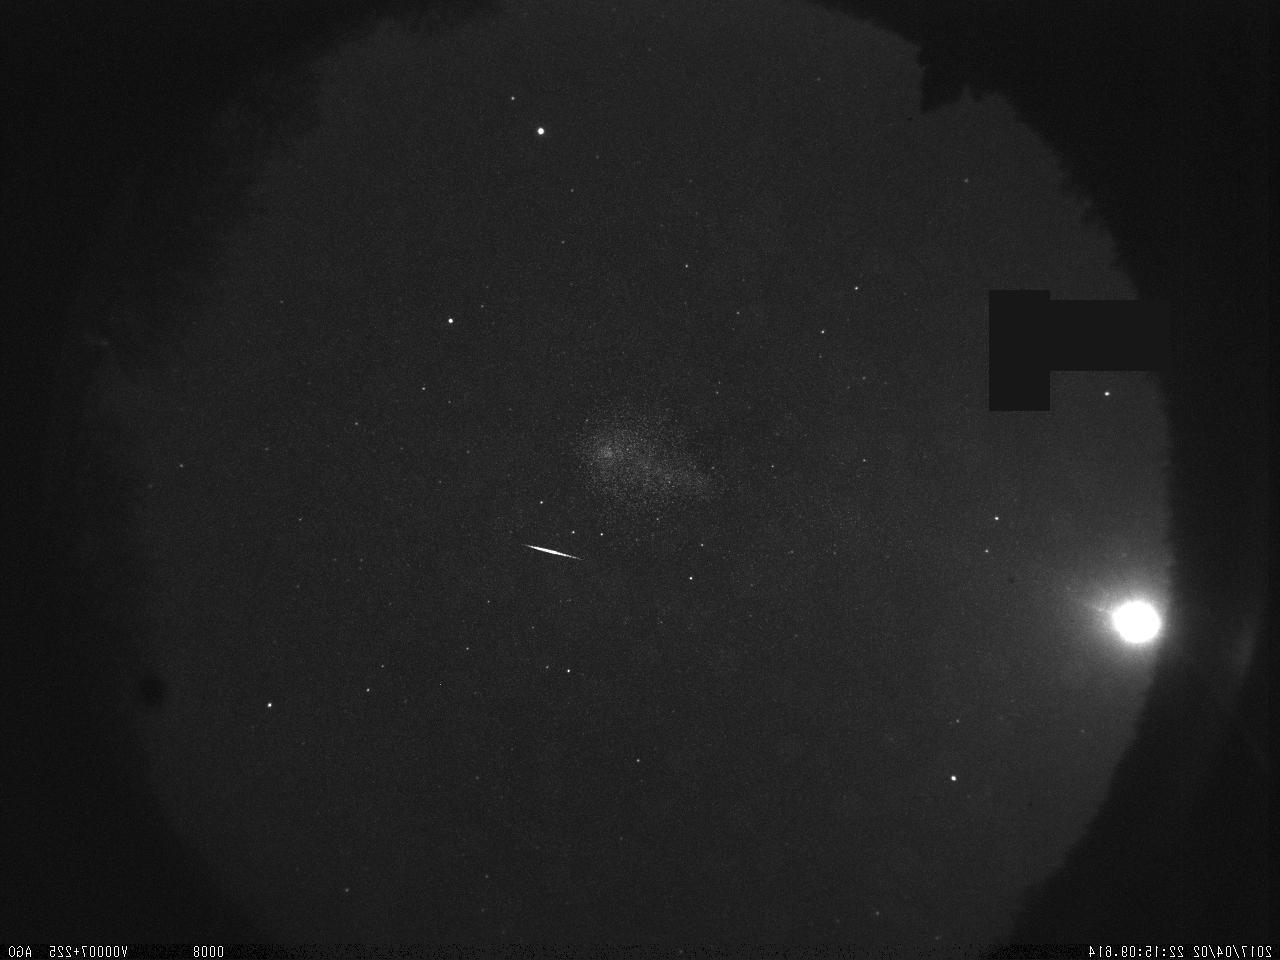meteor: (517, 537, 590, 565)
